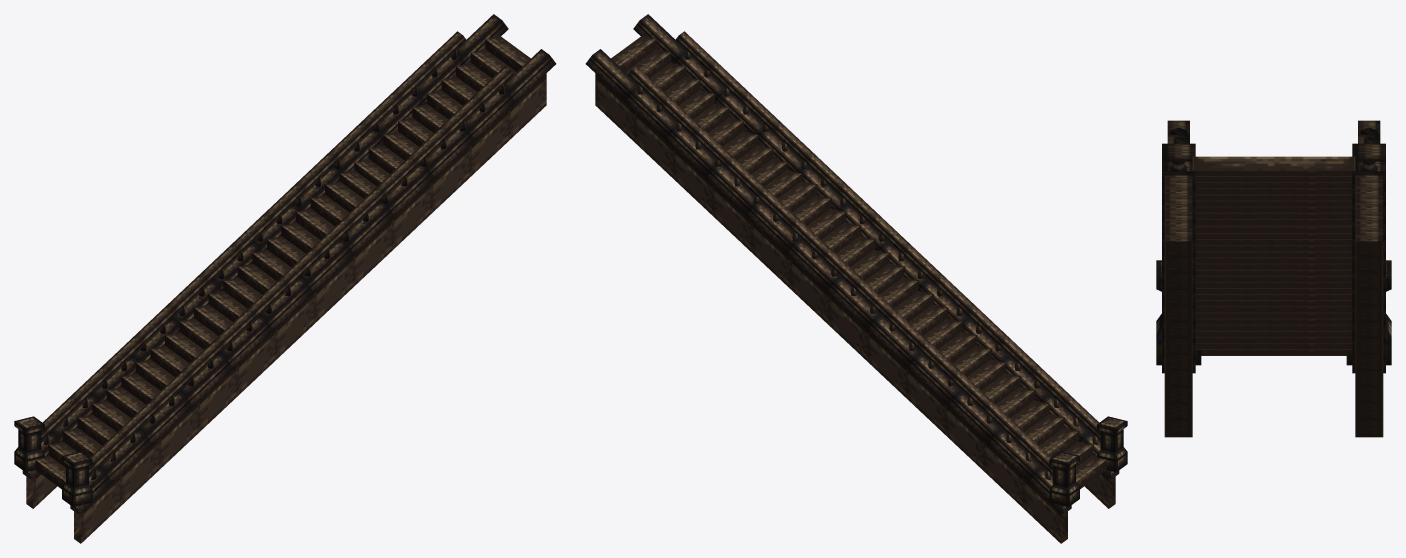
Rendered from EnvBdgMD_Sea_A_Indoor_Pub_A_Staires.FBX.
3 renders of one model, left to right at view 1: azimuth 30°, elevation 25°; view 2: azimuth 150°, elevation 25°; view 3: azimuth 270°, elevation 25°, orthographic. The views are drawn at different scales.
Visible parts, largest first — view 1: EnvBdgMD_Sea_A_Indoor_Pub_A_Staires; view 2: EnvBdgMD_Sea_A_Indoor_Pub_A_Staires; view 3: EnvBdgMD_Sea_A_Indoor_Pub_A_Staires.
Part boxes in pixels (left/top/right/bottom): EnvBdgMD_Sea_A_Indoor_Pub_A_Staires: left=14, top=14, right=556, bottom=543; EnvBdgMD_Sea_A_Indoor_Pub_A_Staires: left=585, top=14, right=1127, bottom=543; EnvBdgMD_Sea_A_Indoor_Pub_A_Staires: left=1156, top=120, right=1391, bottom=437.
Size of the model in its own units: 999 by 739 by 210.
1 material, 1 textured.
